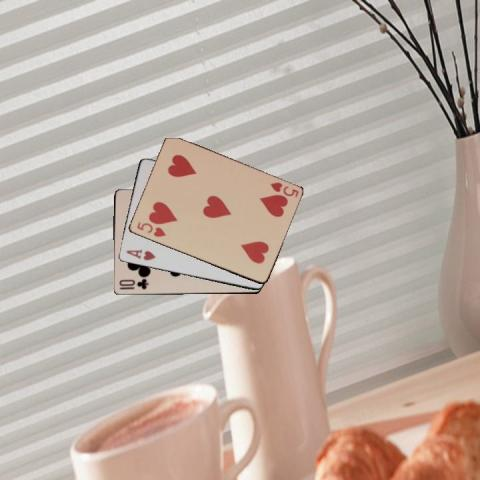10c: (116, 276, 149, 291)
5h: (134, 218, 168, 238), (268, 179, 300, 199)
Ah: (123, 247, 156, 262)
